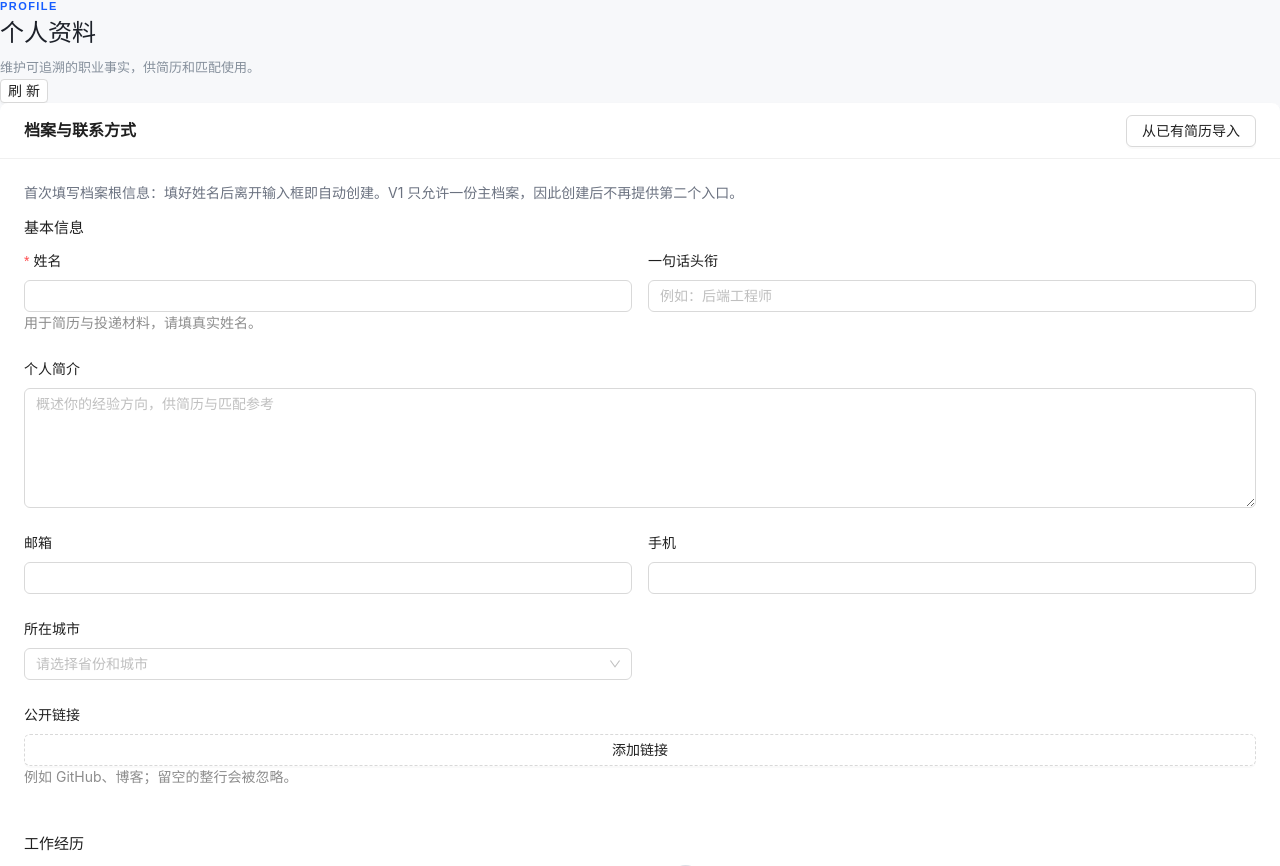
Test: ProfileView › 点击标题右侧导入按钮不切走手动表单
What coordinates should you click on to do the following:
click the button with test id "start-resume-import"
I would click on:
 (1191, 130)
Its box is [1126,114,1256,146].
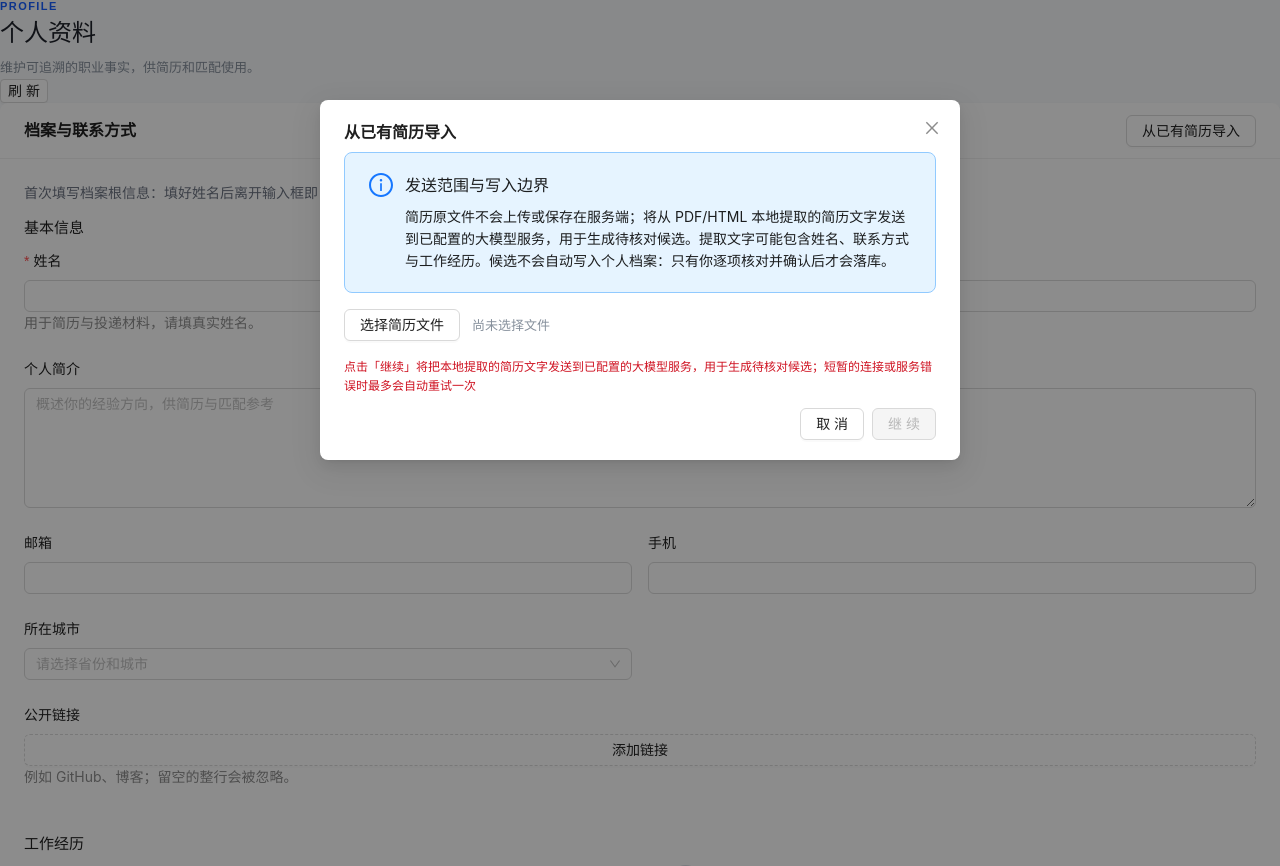
Expected: the element with test id "import-modal" is shown, [344,152,936,396]
